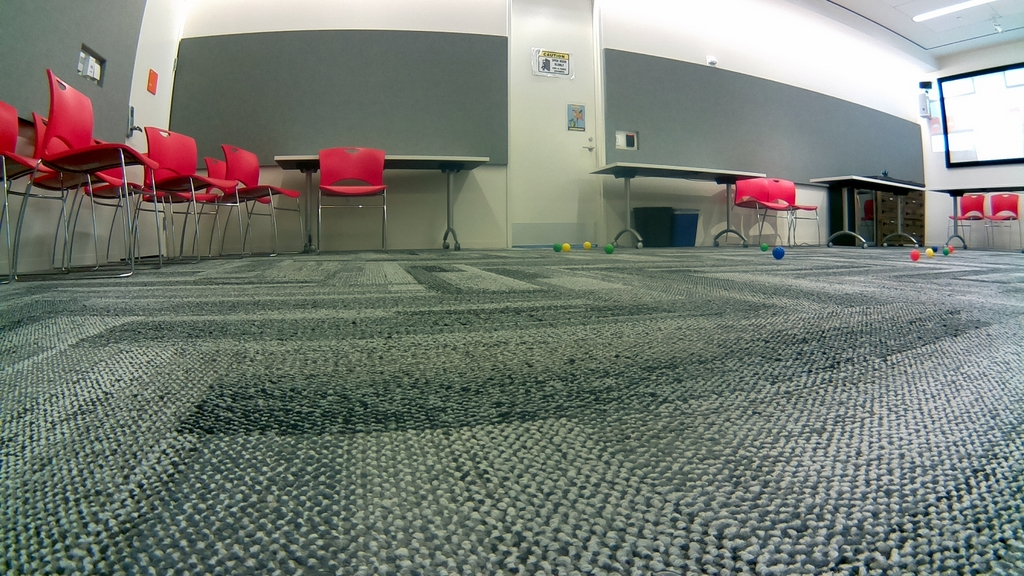ball: (949, 246, 953, 250)
